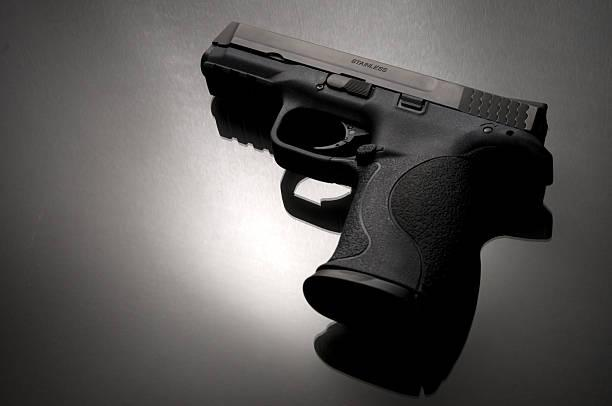weapon: (198, 12, 555, 335)
